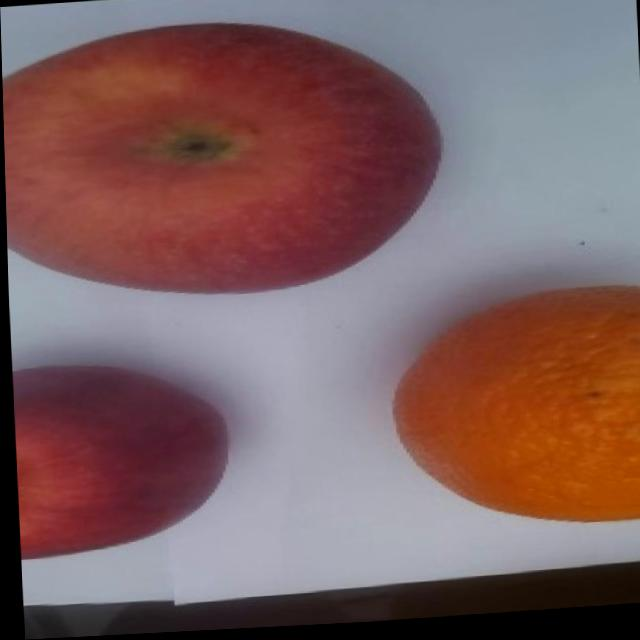Apple: (1, 9, 446, 309)
Orange: (383, 286, 640, 541)
